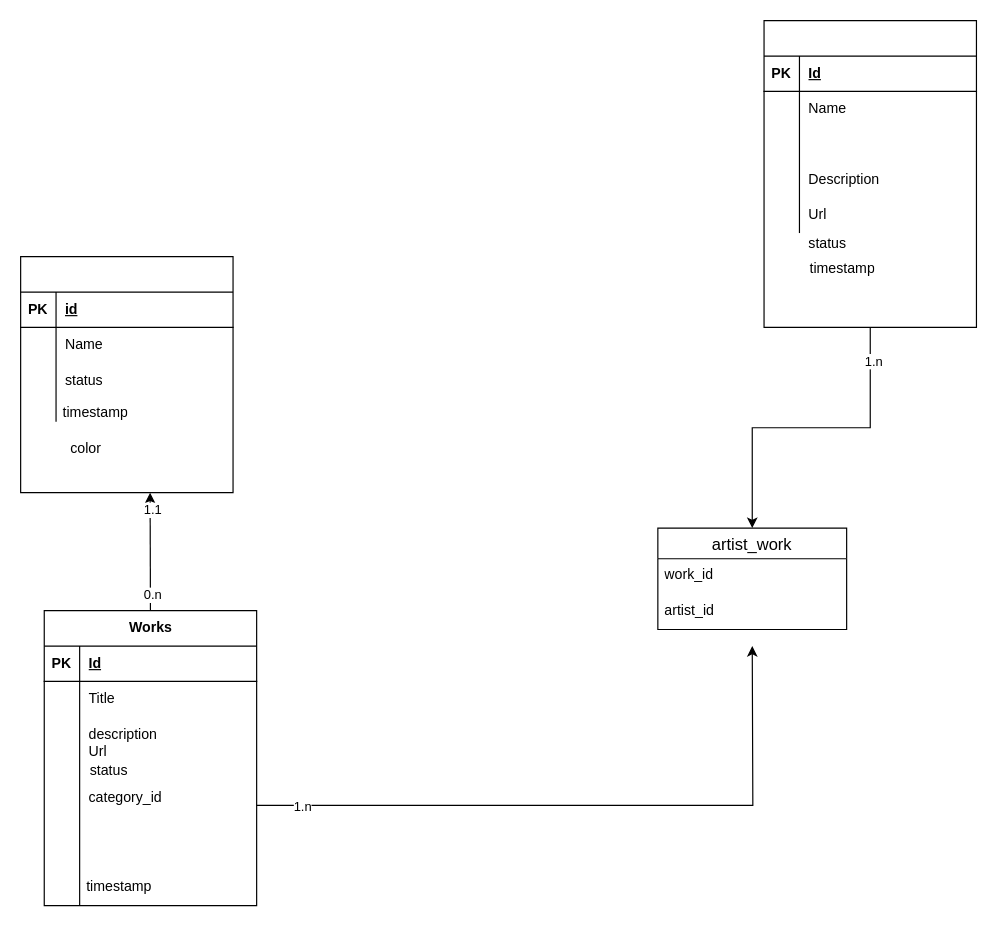
Some shapes in this 997 by 930 pixel diagram are drawn without their labels. Here are the shapes that lost their labels. From the top down, the box of each, then its label:
(763, 19, 976, 327): Artists
(19, 255, 233, 493): Categories
